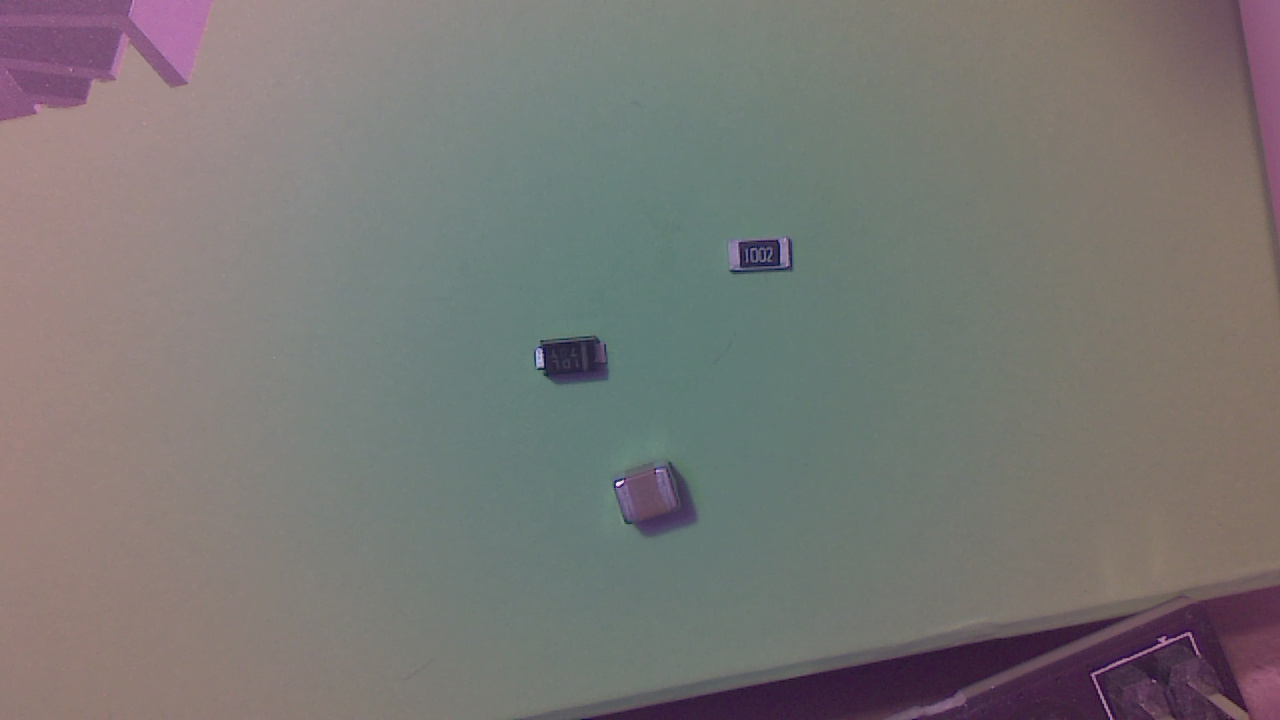Condensator: (617, 465, 685, 528)
Diode: (545, 338, 614, 384)
Resistor: (731, 242, 799, 277)
